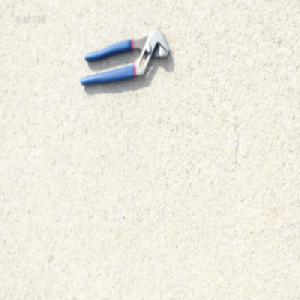Pliers: (79, 26, 170, 87)
